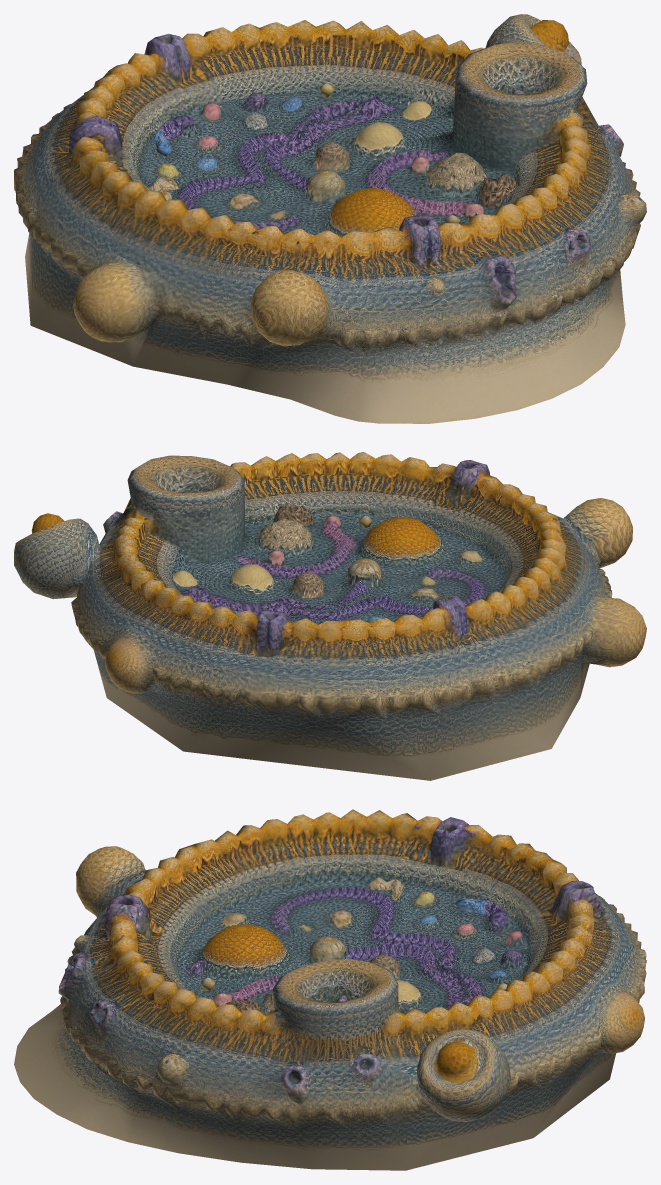
The model's file is protocell-tripo.failed-tripo.glb.
The picture shows the model from 3 angles, top to bottom: view 1: azimuth 30°, elevation 25°; view 2: azimuth 150°, elevation 25°; view 3: azimuth 270°, elevation 25°; orthographic projection. The views are drawn at different scales.
Visible parts, largest first — view 1: tripo_node_c1f5cd4b-7441-4927-8c84-40f4fed260bb; view 2: tripo_node_c1f5cd4b-7441-4927-8c84-40f4fed260bb; view 3: tripo_node_c1f5cd4b-7441-4927-8c84-40f4fed260bb.
Part boxes in pixels (<box>): tripo_node_c1f5cd4b-7441-4927-8c84-40f4fed260bb: <box>14,14,646,423</box>; tripo_node_c1f5cd4b-7441-4927-8c84-40f4fed260bb: <box>14,452,646,780</box>; tripo_node_c1f5cd4b-7441-4927-8c84-40f4fed260bb: <box>14,809,646,1170</box>.
Size of the model in its own units: 0.9536 by 0.2676 by 0.9211.
Materials: 1 (1 with a texture image).
